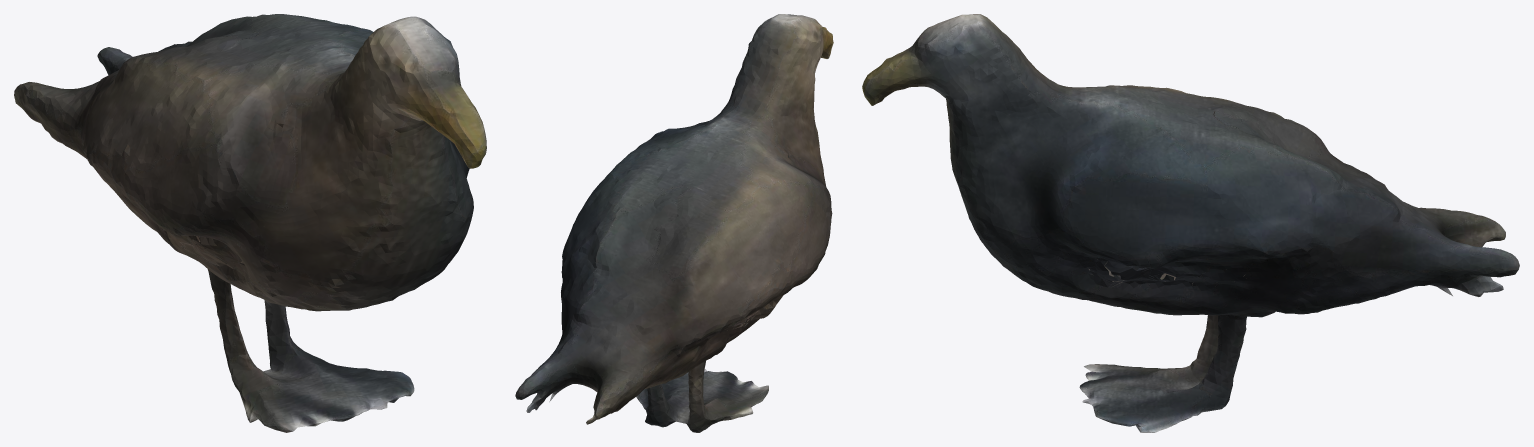
3 views of the same model, side by side, from view 1: azimuth 30°, elevation 25°; view 2: azimuth 150°, elevation 25°; view 3: azimuth 270°, elevation 25° (orthographic). The views are drawn at different scales.
Visible parts, largest first — view 1: Mesh_0.121; view 2: Mesh_0.121; view 3: Mesh_0.121.
Part boxes in pixels (x1,y1,x2,y2): Mesh_0.121: (14,14,486,432); Mesh_0.121: (515,14,833,432); Mesh_0.121: (862,14,1519,432).
Size of the model in its own units: 0.0858 by 0.1329 by 0.2094.
Materials: 1 (1 with a texture image).
